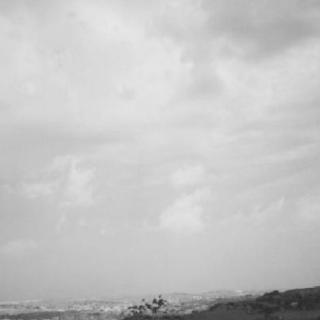Stratus: (0, 0, 320, 284)
